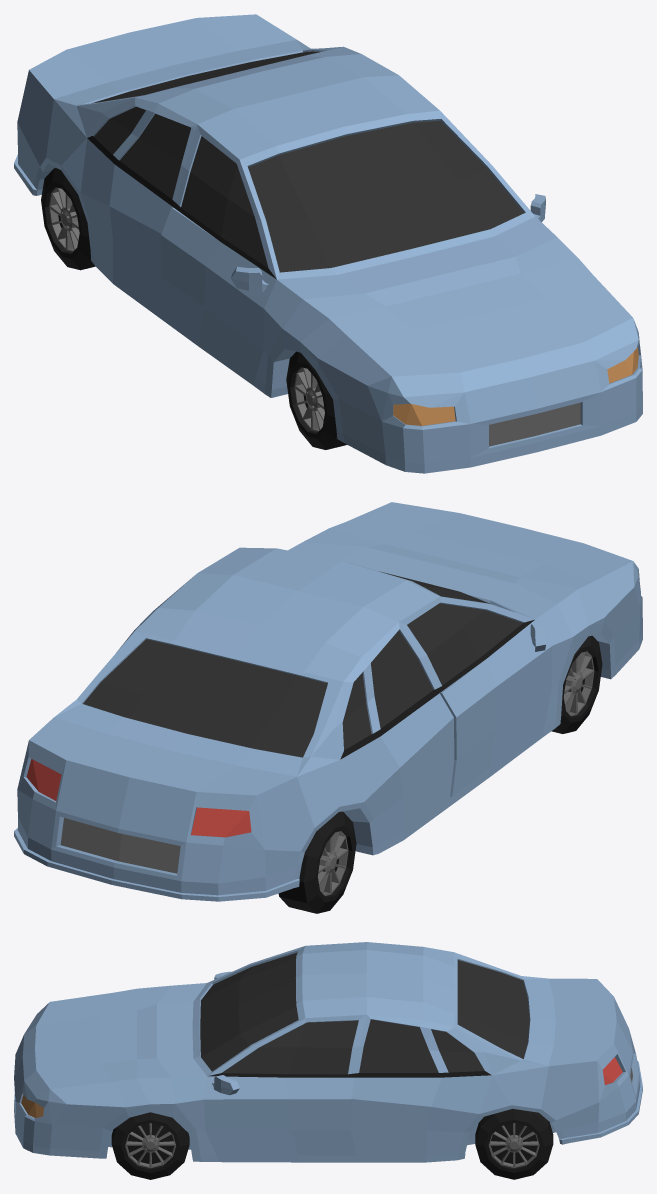
File: t-sedan1.glb
3 views of the same model, one above another, from view 1: azimuth 30°, elevation 25°; view 2: azimuth 150°, elevation 25°; view 3: azimuth 270°, elevation 25° (orthographic). The views are drawn at different scales.
Parts seen in each view (by area): view 1: NormalCar1_Cube.012, NormalCar1_BackWheels_Cube.011, NormalCar1_FrontRightWheel_Cube.008; view 2: NormalCar1_Cube.012, NormalCar1_BackWheels_Cube.011, NormalCar1_FrontRightWheel_Cube.008; view 3: NormalCar1_Cube.012, NormalCar1_BackWheels_Cube.011, NormalCar1_FrontLeftWheel_Cube.007.
Boxes of the visible parts, <box> form: NormalCar1_Cube.012: <box>14,14,642,473</box>; NormalCar1_BackWheels_Cube.011: <box>41,168,95,270</box>; NormalCar1_FrontRightWheel_Cube.008: <box>286,351,346,449</box>; NormalCar1_Cube.012: <box>14,502,642,901</box>; NormalCar1_BackWheels_Cube.011: <box>278,811,356,913</box>; NormalCar1_FrontRightWheel_Cube.008: <box>551,635,602,733</box>; NormalCar1_Cube.012: <box>14,942,642,1162</box>; NormalCar1_BackWheels_Cube.011: <box>475,1108,553,1179</box>; NormalCar1_FrontLeftWheel_Cube.007: <box>111,1112,189,1179</box>.
Bounding box in the file's own units: 1.81 × 1.18 × 4.22.
